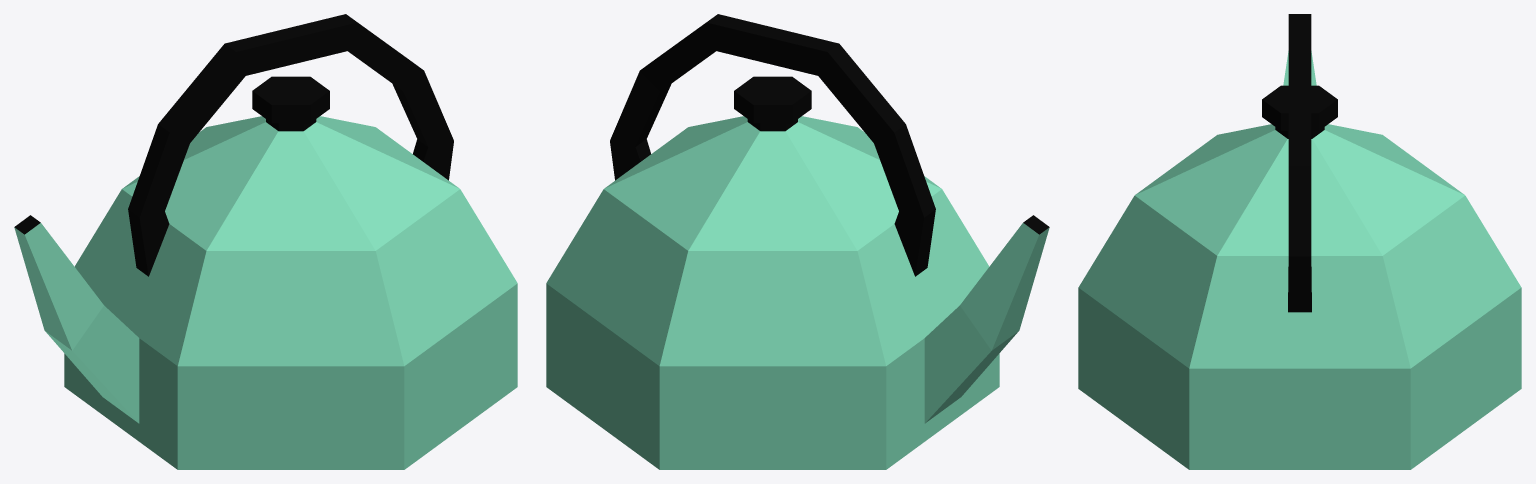
File: kettle2_PLY.fbx
3 views of the same model, side by side, from view 1: azimuth 30°, elevation 25°; view 2: azimuth 150°, elevation 25°; view 3: azimuth 270°, elevation 25° (orthographic). The views are drawn at different scales.
Parts seen in each view (by area): view 1: kettle2_PLY; view 2: kettle2_PLY; view 3: kettle2_PLY.
Part boxes in pixels (box(x1,y1,x2,y2)): kettle2_PLY: box(14, 14, 517, 469); kettle2_PLY: box(546, 14, 1049, 469); kettle2_PLY: box(1078, 14, 1521, 469).
Bounding box in the file's own units: 0.9745 × 0.7462 × 0.8663.
